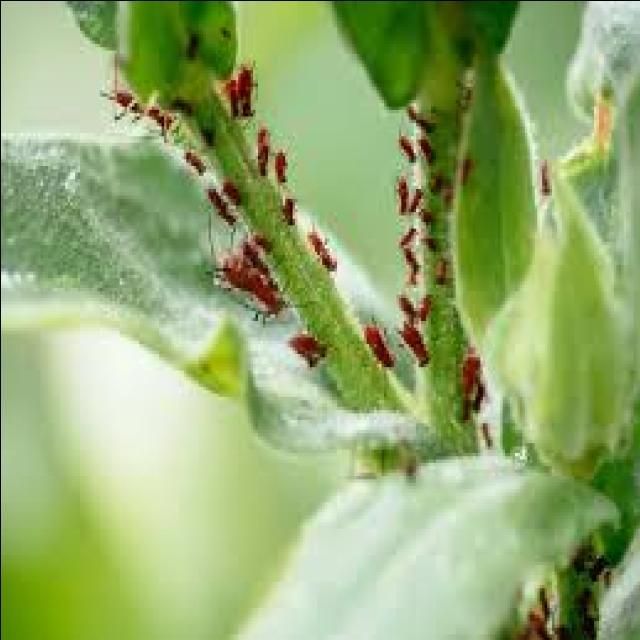aphid: (198, 241, 296, 323), (94, 66, 141, 128), (301, 211, 341, 281), (356, 310, 398, 376), (388, 314, 432, 376), (450, 336, 487, 406), (228, 230, 274, 280), (276, 323, 328, 363), (230, 53, 260, 119), (383, 165, 418, 221), (526, 574, 558, 627), (561, 531, 593, 584), (528, 148, 558, 204), (215, 165, 250, 211), (422, 244, 454, 294), (156, 86, 198, 122), (174, 138, 208, 182), (274, 184, 302, 234), (388, 122, 418, 168), (388, 287, 420, 330), (215, 69, 242, 119), (264, 138, 292, 184), (175, 19, 202, 62), (393, 238, 420, 280), (450, 145, 474, 191), (390, 214, 420, 250), (408, 284, 432, 320)
